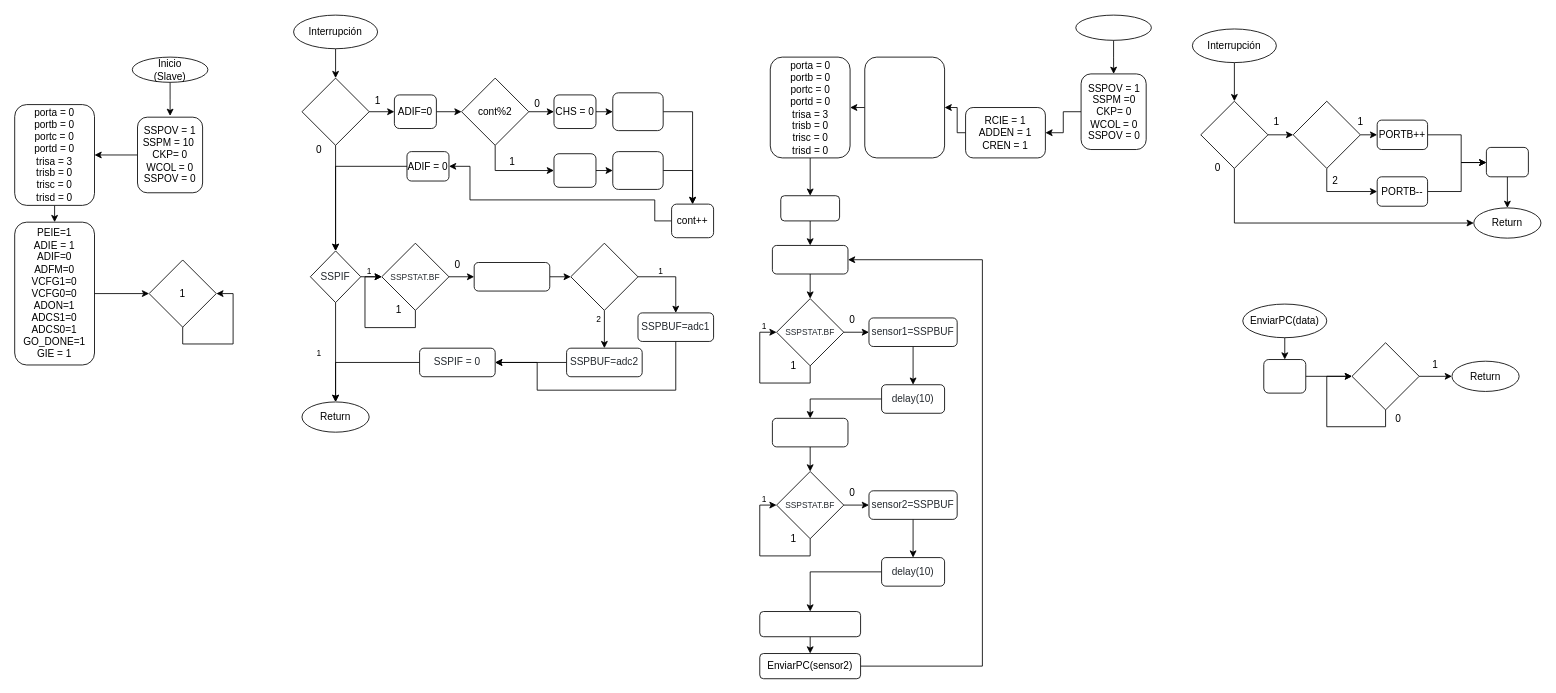
The diagram is 1556 pixels wide and 693 high, and some of its shapes have lost their labels. Each missing label, with the box of its shape:
adc1 = ADRESH: (612, 92, 663, 131)
adc2 = ADRESH: (612, 151, 663, 189)
ADIF: (301, 77, 369, 145)
BRGH = 1 SPBRG = 25 BRG16 = 0 SYNC = 0 SPEN = 1 TX9 = 0 TXEN = 1 TXIE = 1: (864, 56, 945, 158)
CHS = 1: (553, 153, 596, 187)
dataIn: (570, 242, 638, 310)
dataIn=SSPBUF: (473, 262, 550, 291)
EnviarPC(sensor1): (759, 611, 861, 637)
Inicio (Master): (1075, 14, 1151, 40)
initUSART(): (780, 195, 840, 221)
PCData: (1292, 100, 1360, 168)
RXIF: (1200, 100, 1268, 168)
RXIF = 0: (1486, 147, 1528, 177)
SSPBUF=1: (772, 245, 848, 274)
SSPBUF=2: (772, 417, 848, 447)
TRMT: (1351, 342, 1419, 410)
TXREG = data: (1263, 359, 1306, 393)
